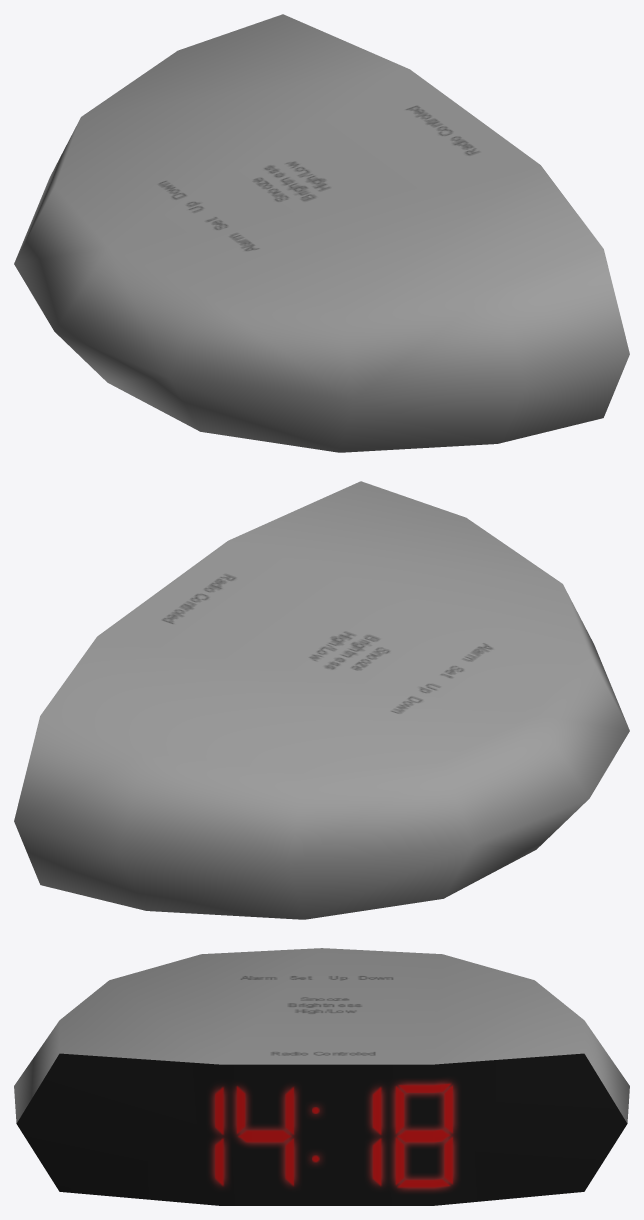
File: alarmClock.fbx
The picture shows the model from 3 angles, top to bottom: view 1: azimuth 30°, elevation 25°; view 2: azimuth 150°, elevation 25°; view 3: azimuth 270°, elevation 25°; orthographic projection. The views are drawn at different scales.
Visible parts, largest first — view 1: pCube2; view 2: pCube2; view 3: pCube2.
Part boxes in pixels (bbox=[...]): pCube2: bbox=[14, 14, 629, 452]; pCube2: bbox=[14, 481, 629, 919]; pCube2: bbox=[14, 948, 629, 1205].
Size of the model in its own units: 0.2497 by 0.0972 by 0.3838.
1 material, 1 textured.
